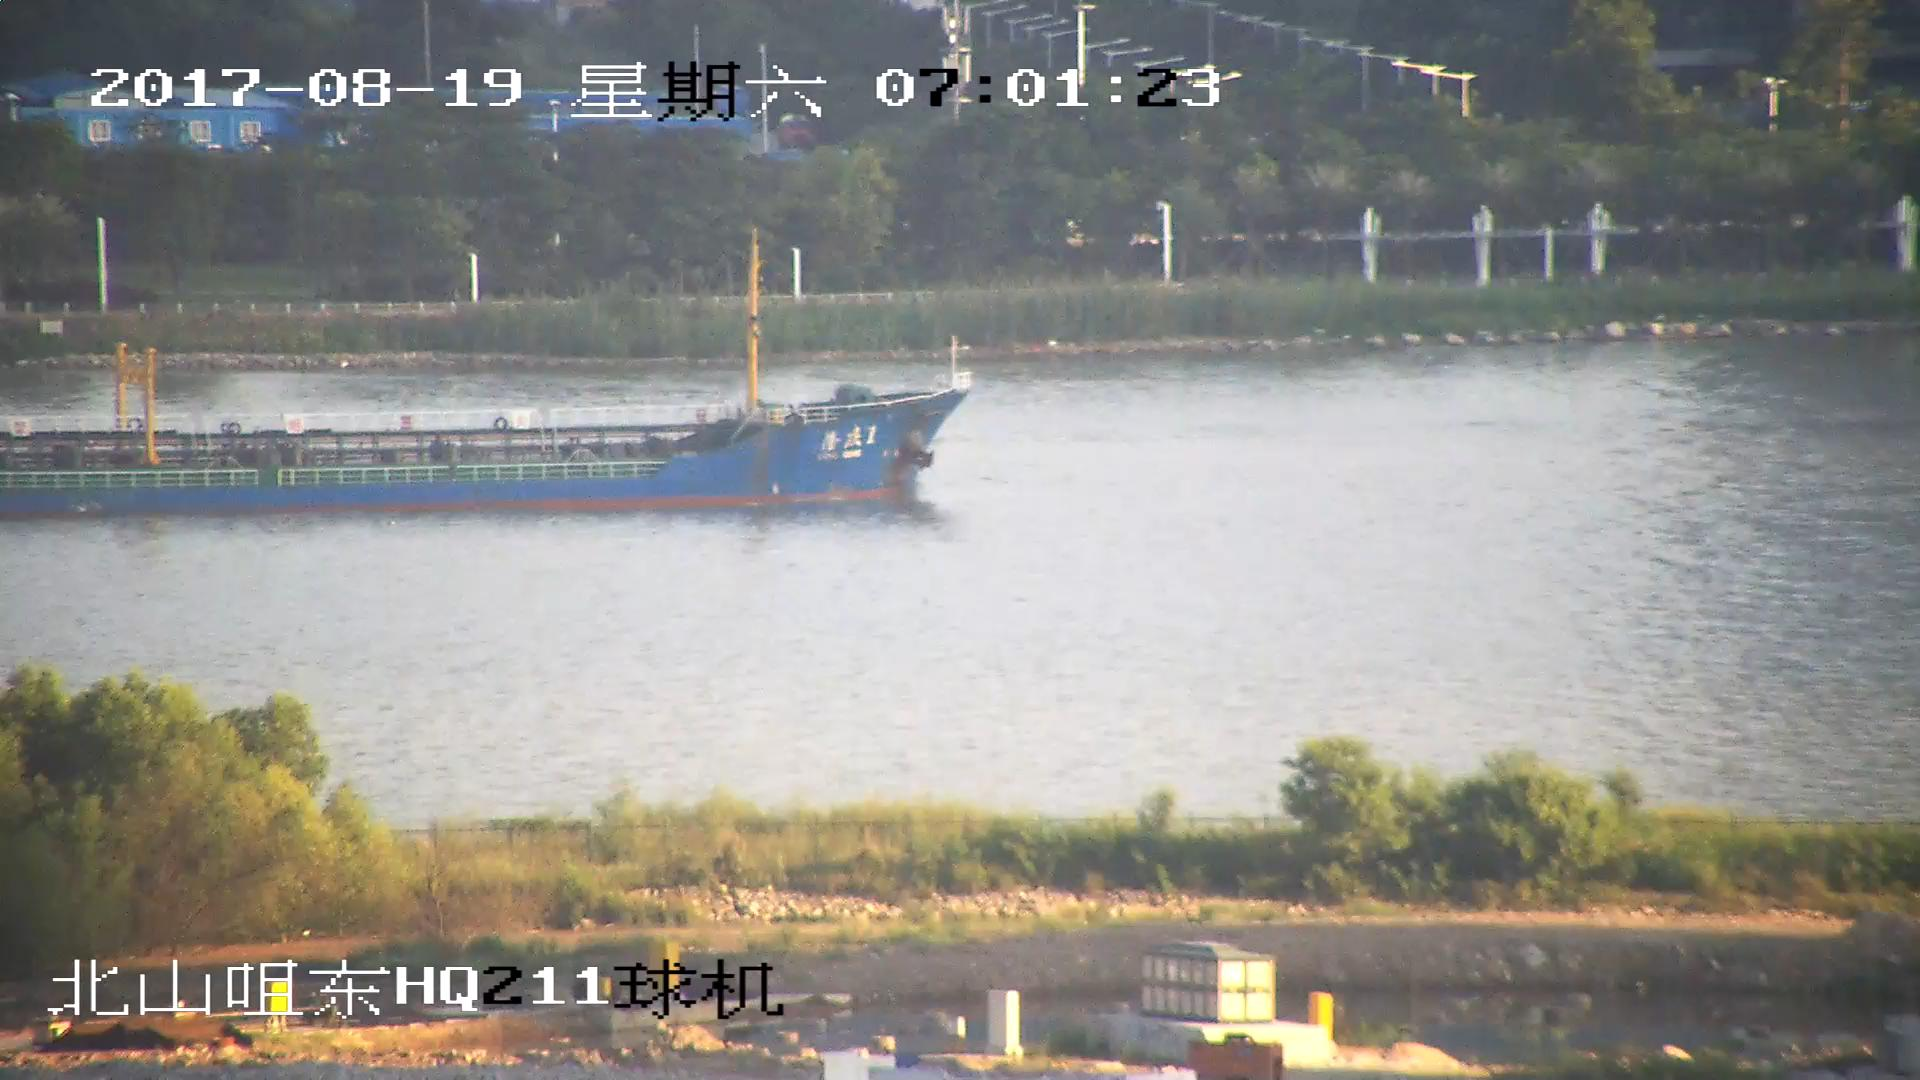general cargo ship: (1, 223, 957, 508)
